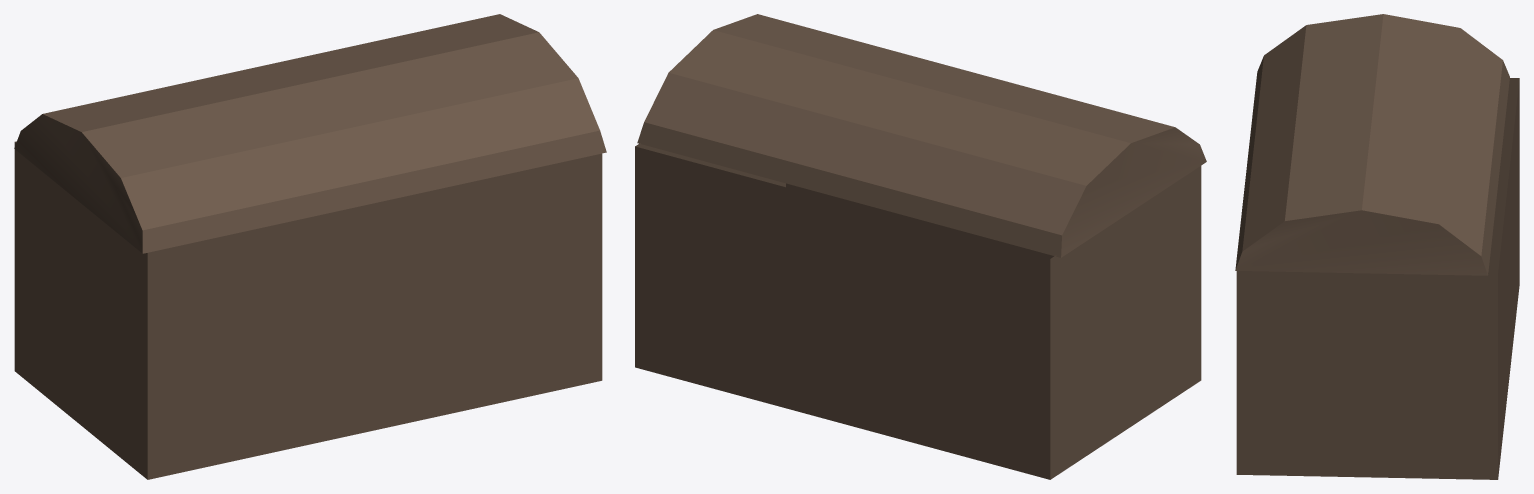
The model's file is Chest.fbx.
3 views of the same model, side by side, from view 1: azimuth 30°, elevation 25°; view 2: azimuth 150°, elevation 25°; view 3: azimuth 270°, elevation 25° (orthographic). The views are drawn at different scales.
Visible parts, largest first — view 1: Chest; view 2: Chest; view 3: Chest.
Part boxes in pixels (x1,y1,x2,y2): Chest: (14,14,606,479); Chest: (635,14,1206,479); Chest: (1235,14,1519,479).
Size of the model in its own units: 25.78 by 15.18 by 15.75.
